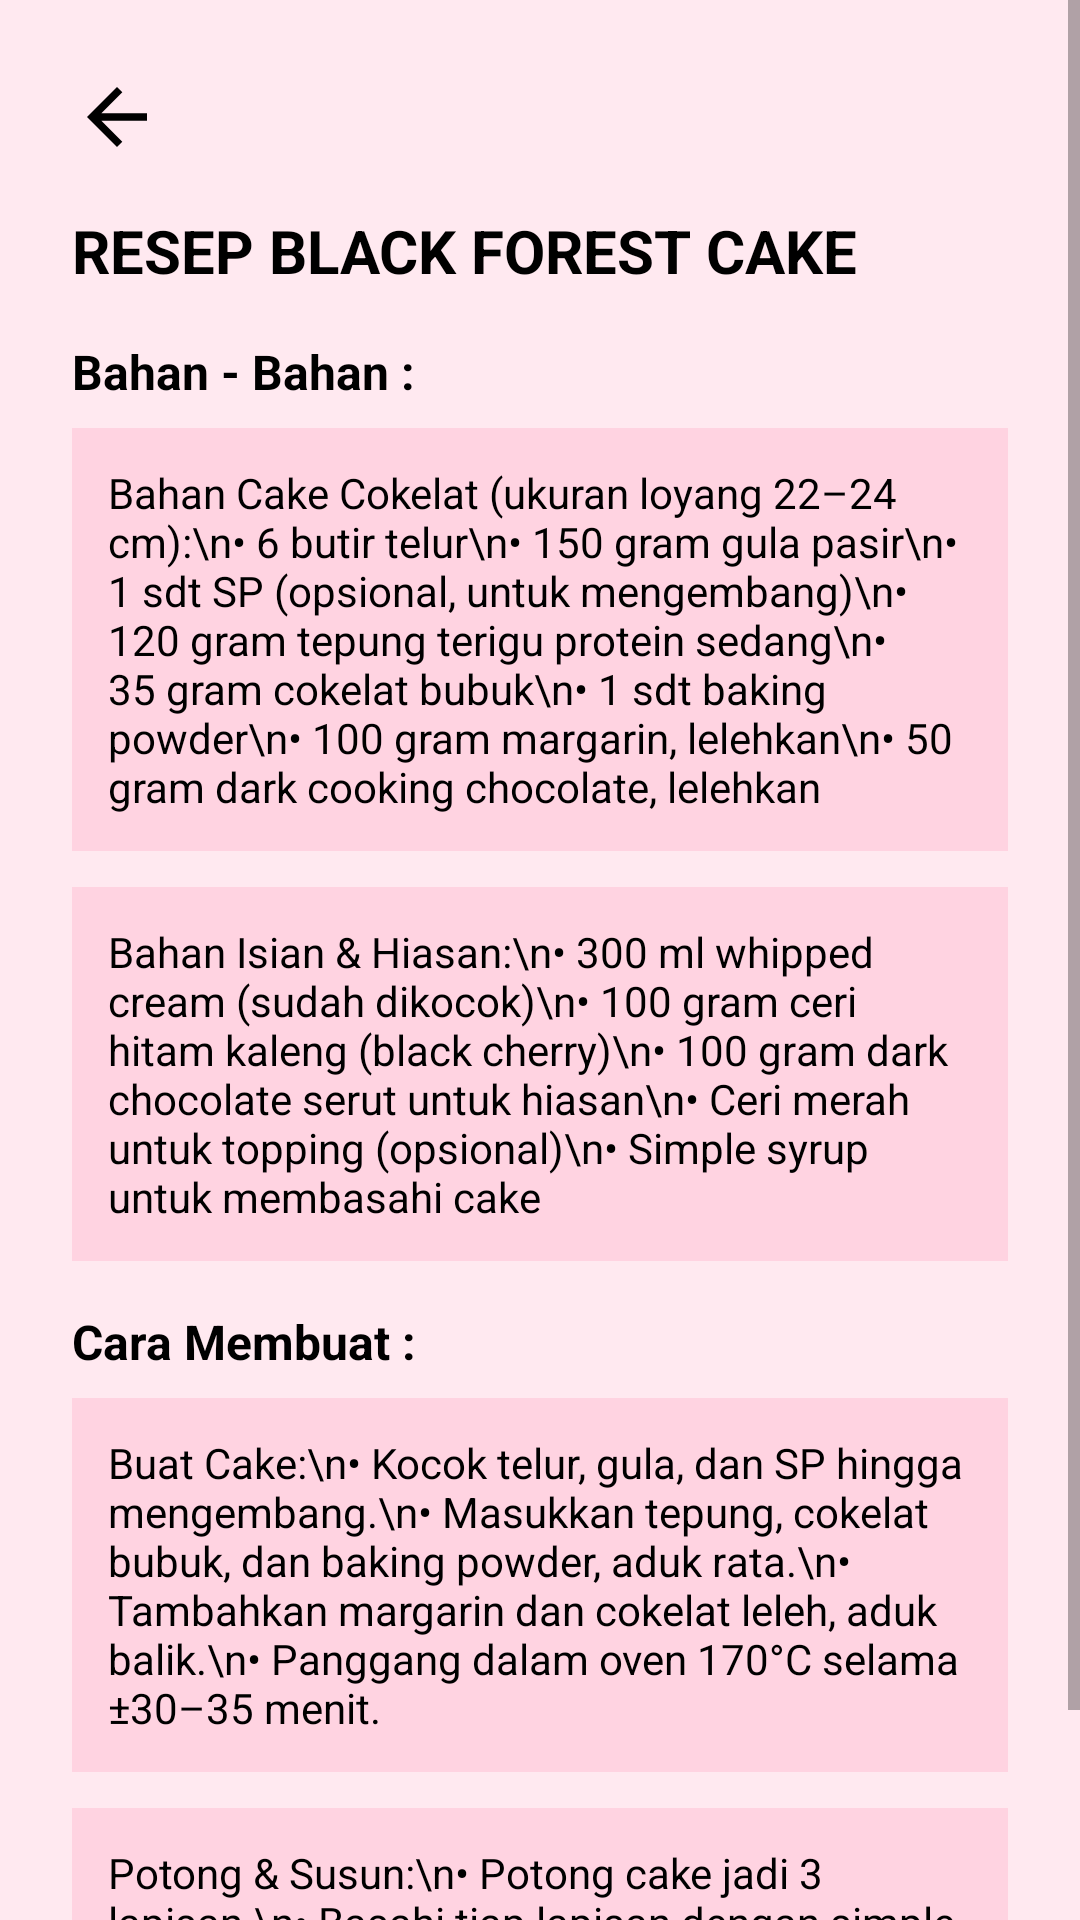

Where icons sit on this 1080w x 1920h app screen, as (x1, y1, x2, y2):
Back: (87, 87, 147, 147)
